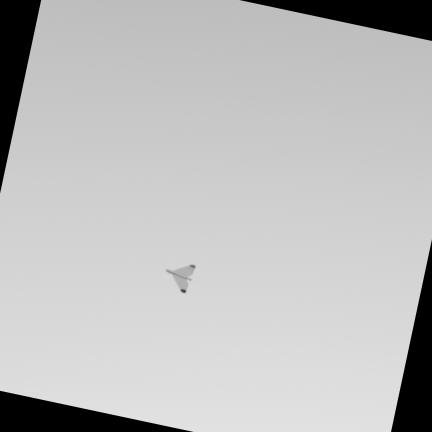Shahed: (165, 264, 197, 294)
